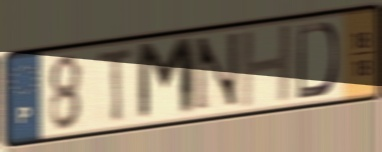8: (47, 52, 85, 134)
D: (294, 20, 340, 102)
H: (238, 20, 295, 112)
M: (134, 34, 199, 125)
N: (190, 30, 243, 117)
T: (96, 44, 136, 126)
